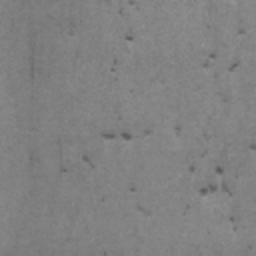Oxide scale of temperature system: (29, 123, 183, 216), (206, 0, 246, 103), (188, 163, 241, 223), (28, 40, 36, 81), (124, 27, 135, 41), (68, 18, 76, 36)
